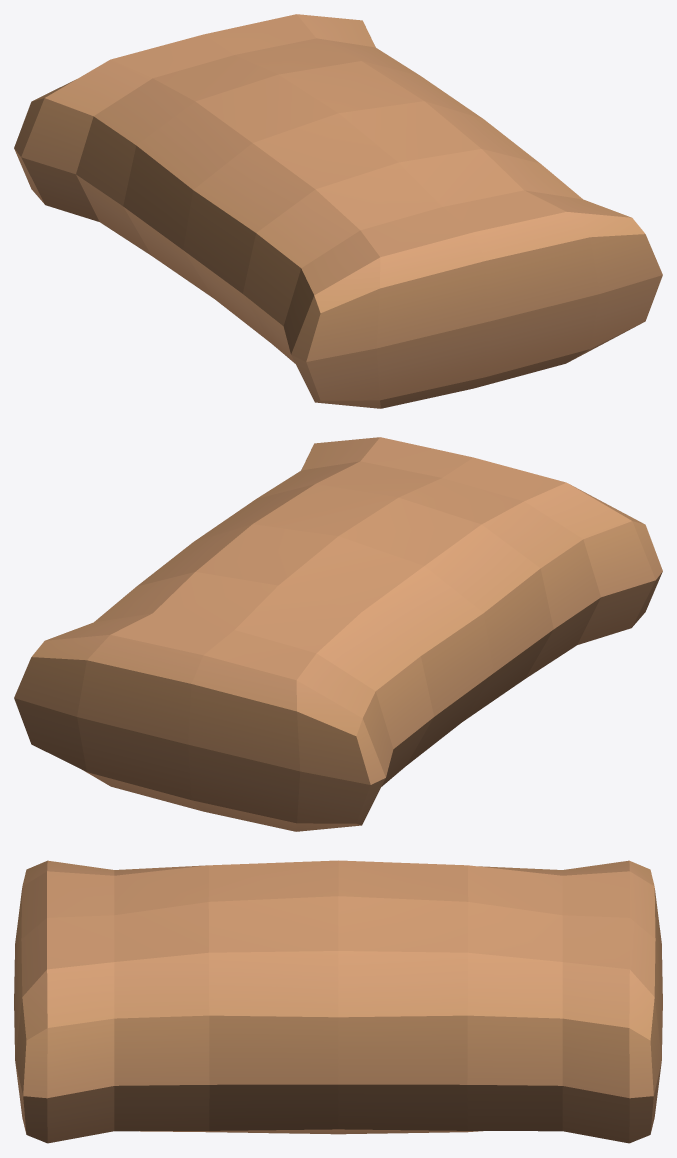
The model's file is Bag_1.fbx.
3 views of the same model, one above another, from view 1: azimuth 30°, elevation 25°; view 2: azimuth 150°, elevation 25°; view 3: azimuth 270°, elevation 25° (orthographic). The views are drawn at different scales.
Parts seen in each view (by area): view 1: Bag_1; view 2: Bag_1; view 3: Bag_1.
Part boxes in pixels (x1=…): Bag_1: x1=14, y1=14, x2=662, y2=408; Bag_1: x1=14, y1=437, x2=662, y2=831; Bag_1: x1=14, y1=860, x2=662, y2=1143.
Size of the model in its own units: 47.67 by 24.55 by 68.07.
